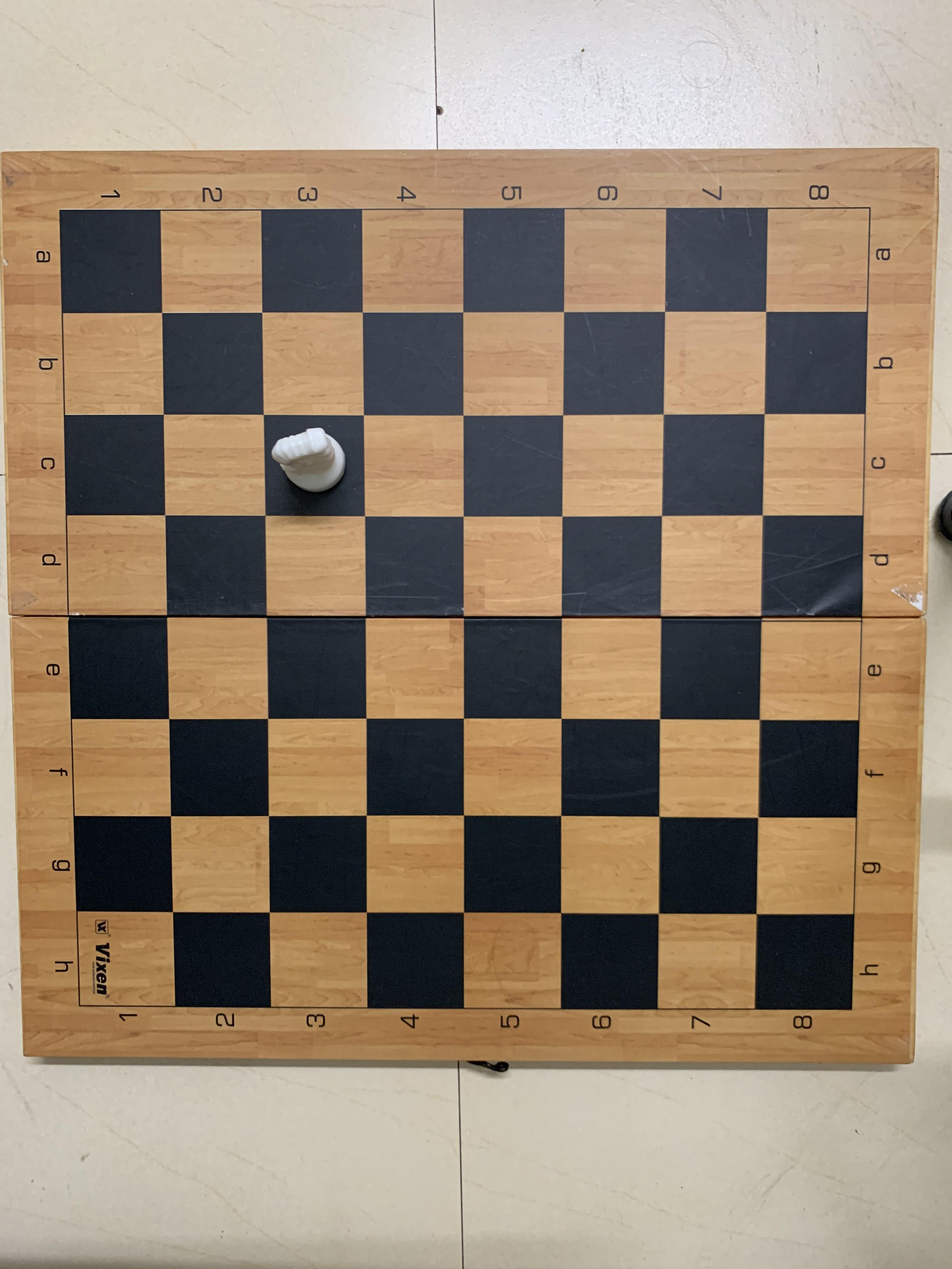white_knight: (261, 416, 362, 512)
